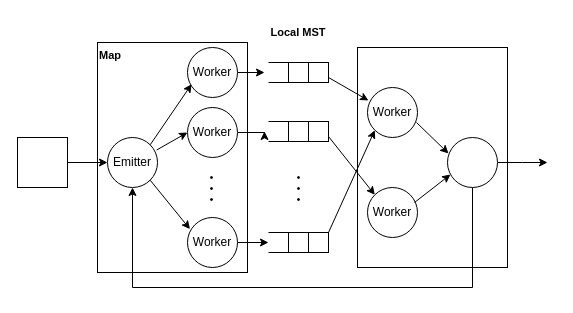
Some shapes in this 573 by 313 pixel diagram are drawn without their labels. The shapes that lost their labels are listed below. From the top down, each one's box as (x1, y1, x2, y2) in pixels, then its label:
(16, 136, 68, 188): Comp
(356, 46, 508, 268): Reduce
(446, 136, 498, 188): Collector
